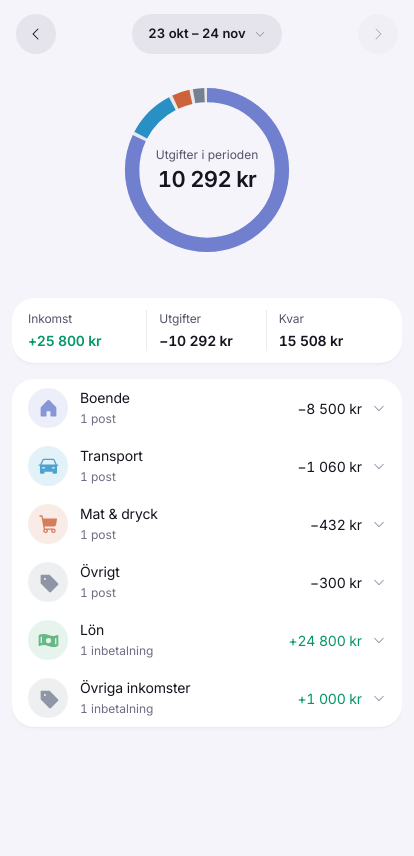
Test: analys – periodväljaren › pilen bakåt visar förra perioden, framåt är avstängd i den nuvarande
This screenshot has width=414, height=856.
Expected: the button named "Nästa period" is disabled, [358,14,398,54]
What coordinates should you click on to do the following:
click the button named "Föregående period"
I would click on:
 (36, 34)
Its box is [16,14,56,54].
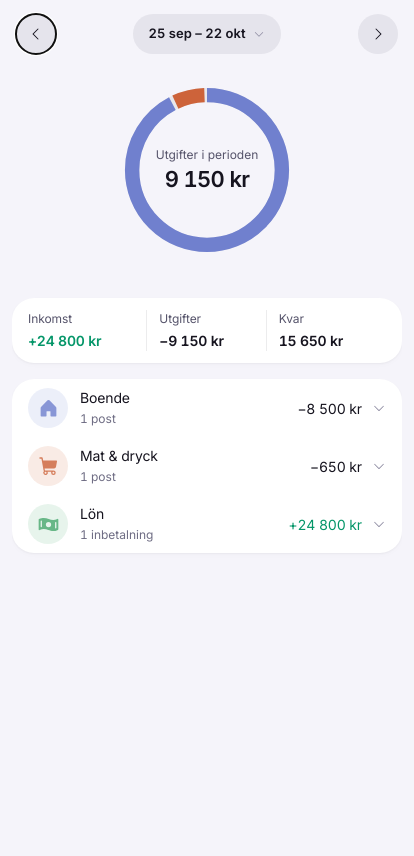
Result: the button named "Nästa period" is enabled
Result: the button "Transport" is gone
What coordinates should you click on to do the following:
click the button named "Nästa period"
I would click on:
 (378, 34)
Its box is [358,14,398,54].
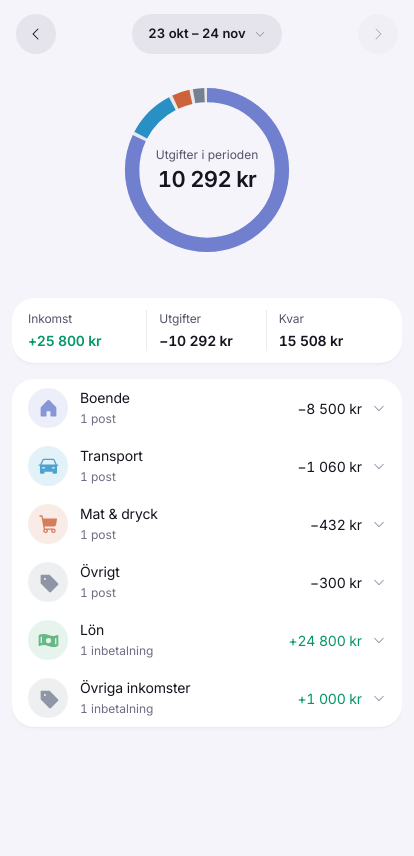
Result: the text "23 okt – 24 nov" is shown at [148,24,246,44]
